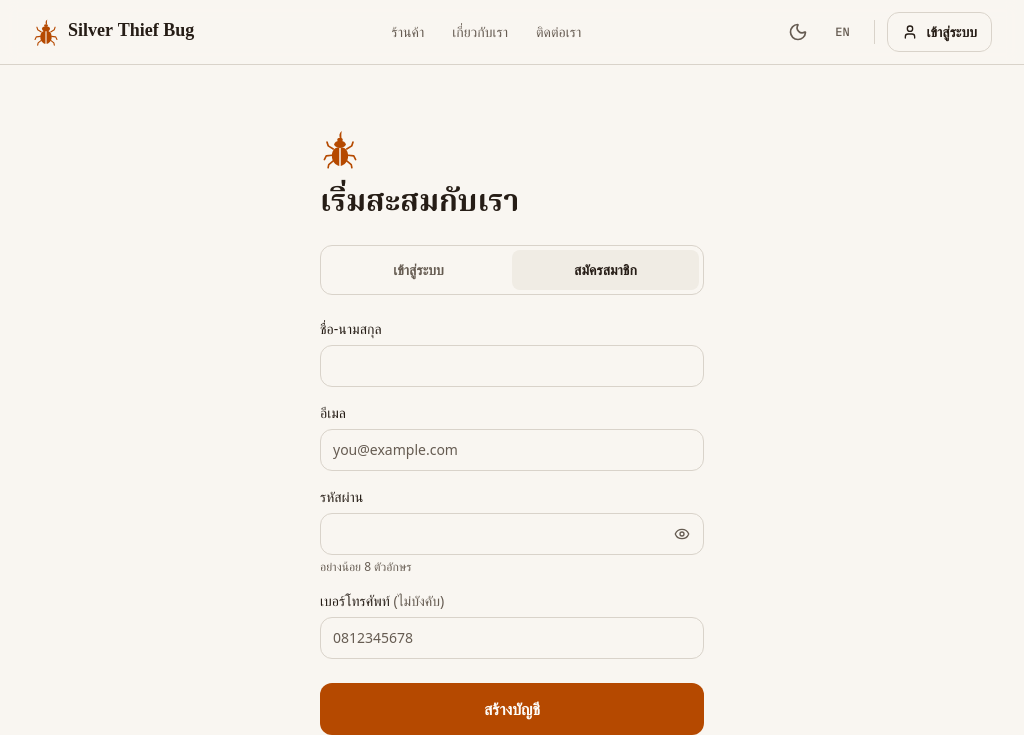
Scenario: the menu by who is signed in › "สมัครสมาชิก" opens sign-up even after switching the form back to sign-in
Expected: the field labelled "ชื่อ-นามสกุล" is shown, [320, 345, 704, 387]
Click the button "เข้าสู่ระบบ" at (418, 270), box [325, 250, 512, 290]
(page scrolled)
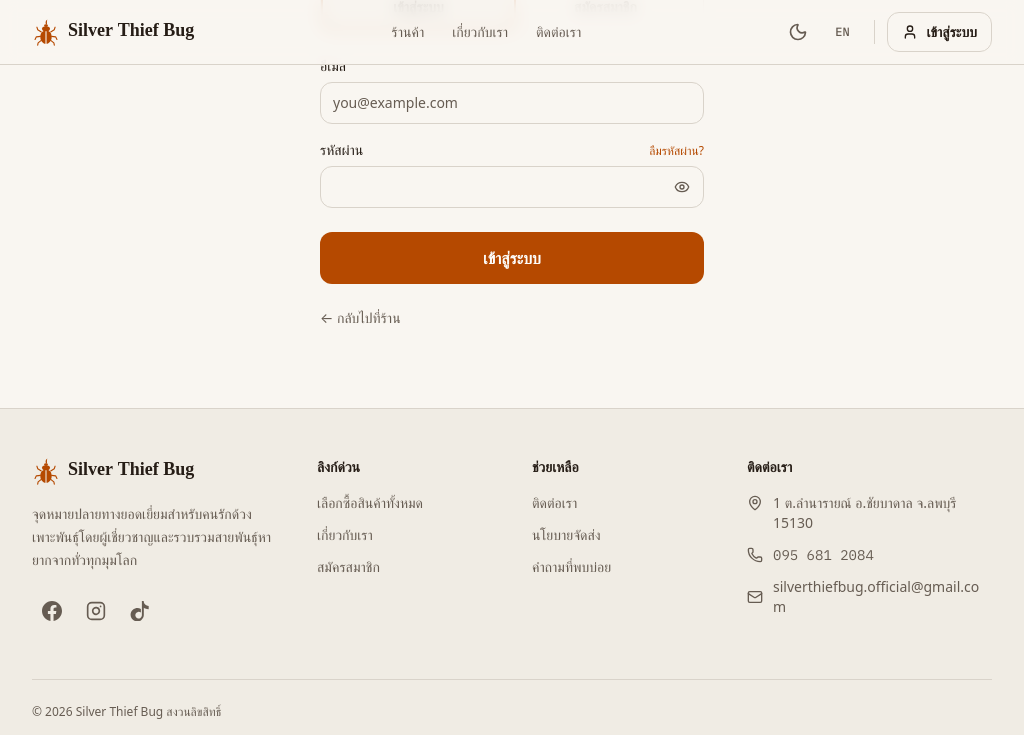
Now the label labelled "ชื่อ-นามสกุล" is gone
Click the link "สมัครสมาชิก" at (348, 566), box [317, 557, 380, 576]
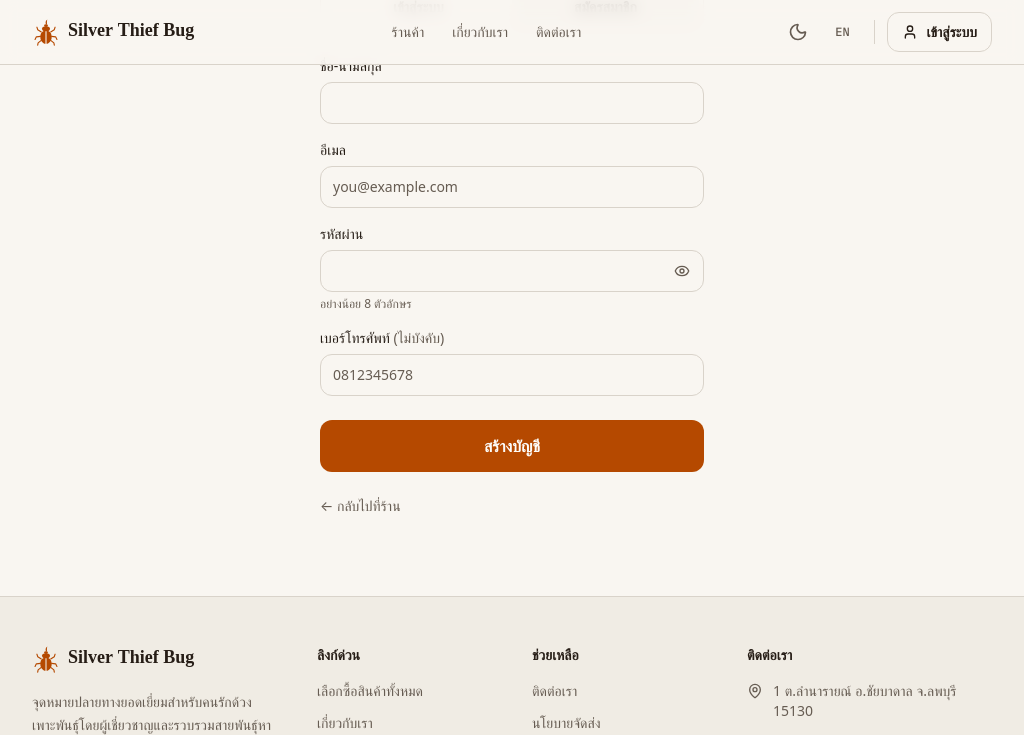
Now the field labelled "ชื่อ-นามสกุล" is shown, box [320, 82, 704, 124]
